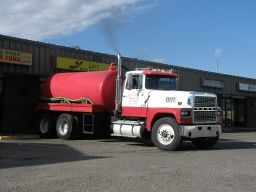truck: (39, 65, 228, 151)
